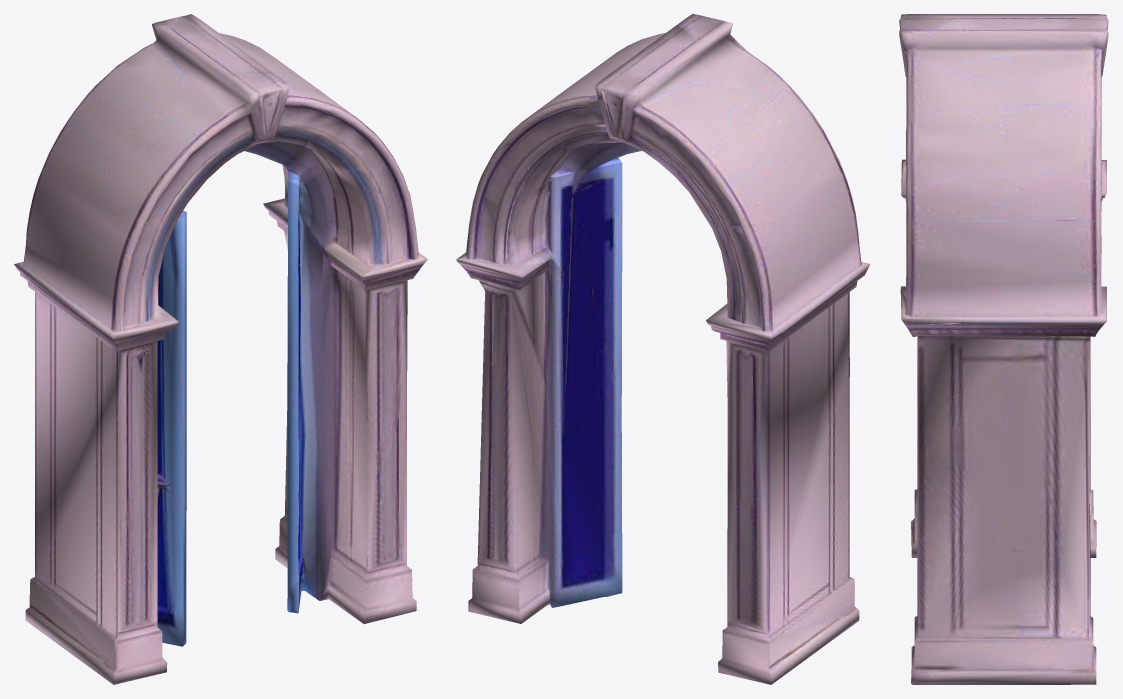
Rendered from dream_gate.glb.
3 renders of one model, left to right at view 1: azimuth 30°, elevation 25°; view 2: azimuth 150°, elevation 25°; view 3: azimuth 270°, elevation 25°, orthographic. The views are drawn at different scales.
Size of the model in its own units: 1.12 by 1.9 by 0.6172.
1 material, 1 textured.
